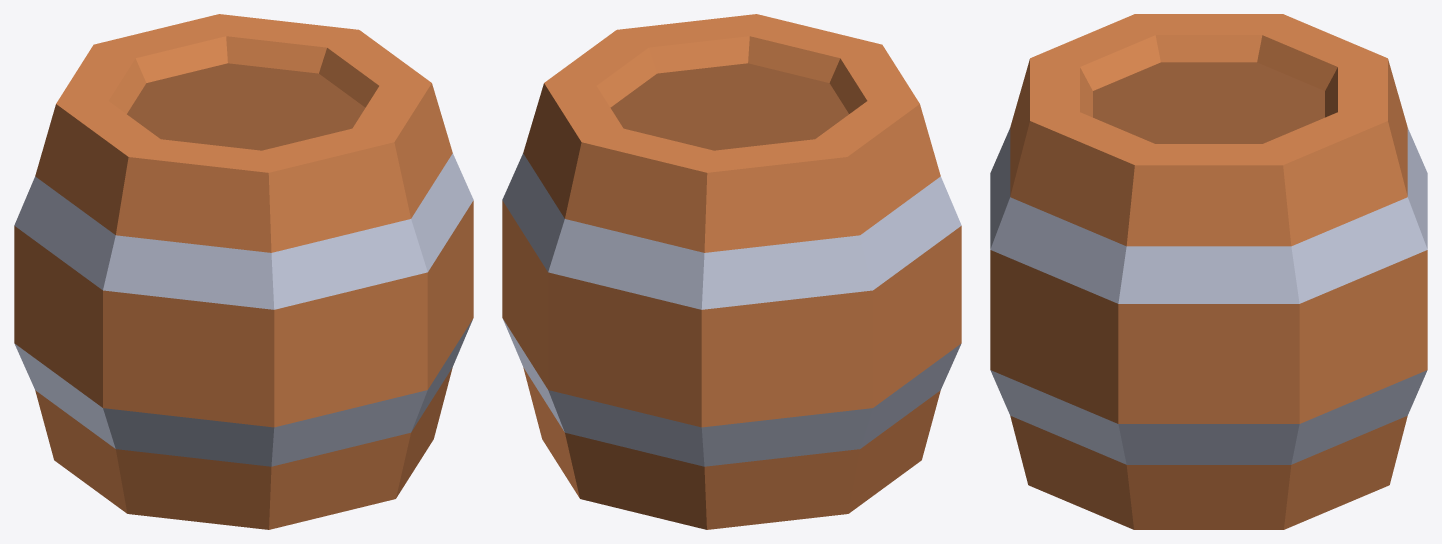
The model's file is barrel.fbx.
3 renders of one model, left to right at view 1: azimuth 30°, elevation 25°; view 2: azimuth 150°, elevation 25°; view 3: azimuth 270°, elevation 25°, orthographic. The views are drawn at different scales.
Visible parts, largest first — view 1: barrel; view 2: barrel; view 3: barrel.
Part boxes in pixels (left/top/right/bottom): barrel: left=14, top=14, right=473, bottom=529; barrel: left=502, top=14, right=961, bottom=529; barrel: left=990, top=14, right=1427, bottom=529.
Bounding box in the file's own units: 231 × 212 × 231.
